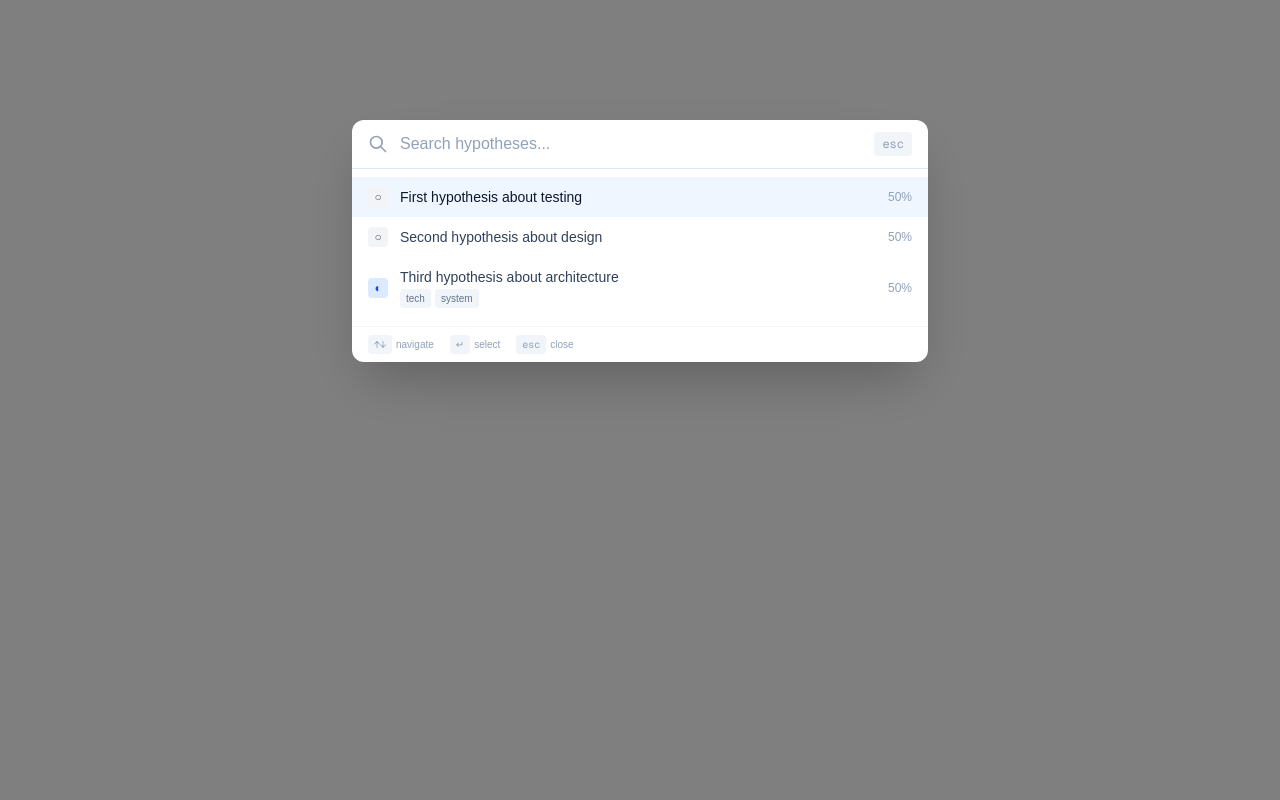
Test: SearchModal › filtering › shows no results message when no matches
Type "nonexistent" into the field with placeholder "Search hypotheses..." at (631, 144), box [400, 132, 862, 156]
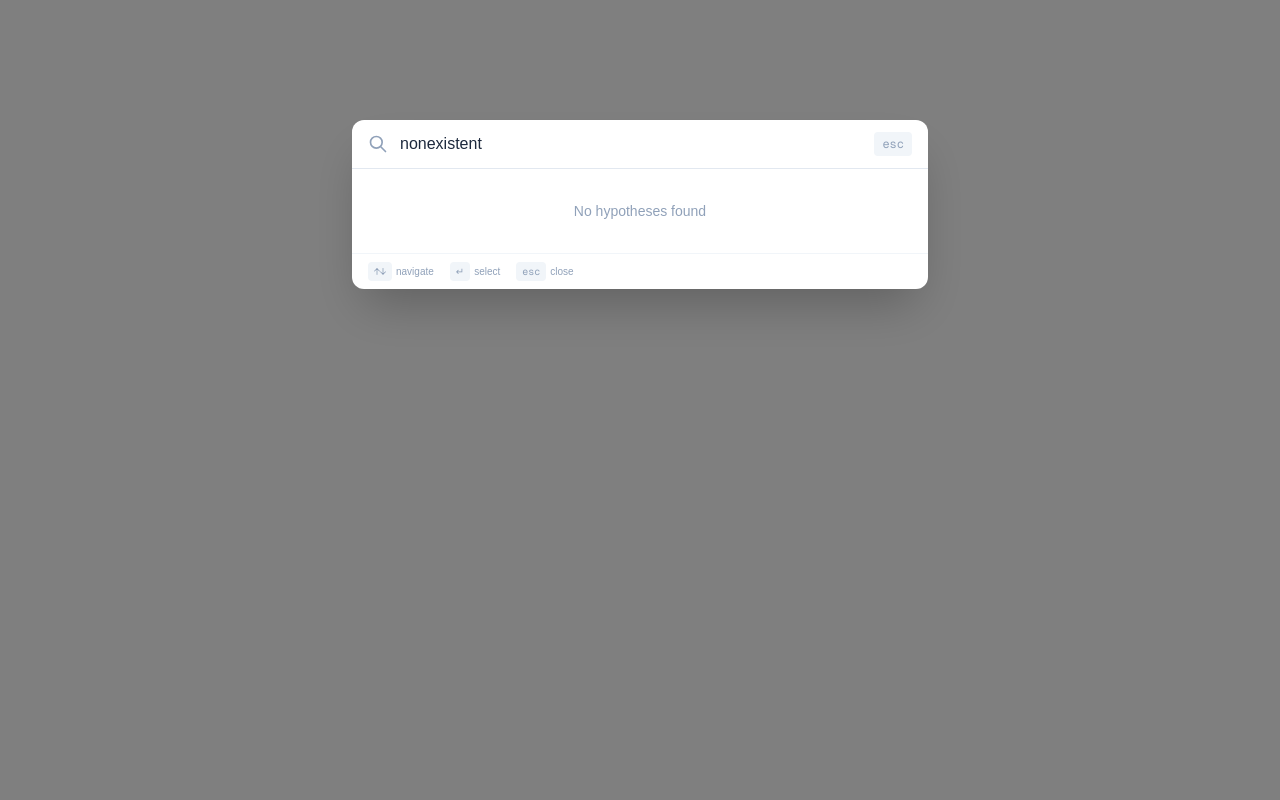
Expected: the text "No hypotheses found" is shown, [574, 203, 706, 219]
